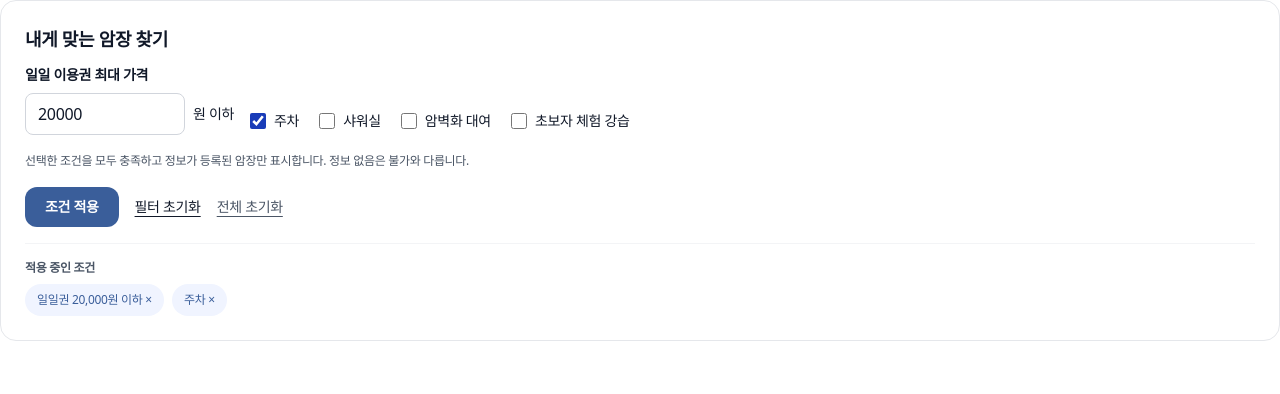
Scenario: keeps invalid budgets on screen with an error instead of silently applying
The image size is (1280, 394).
Replace the text in the field labelled "일일 이용권 최대 가격" with "-100" at (105, 114), box [25,93,185,135]
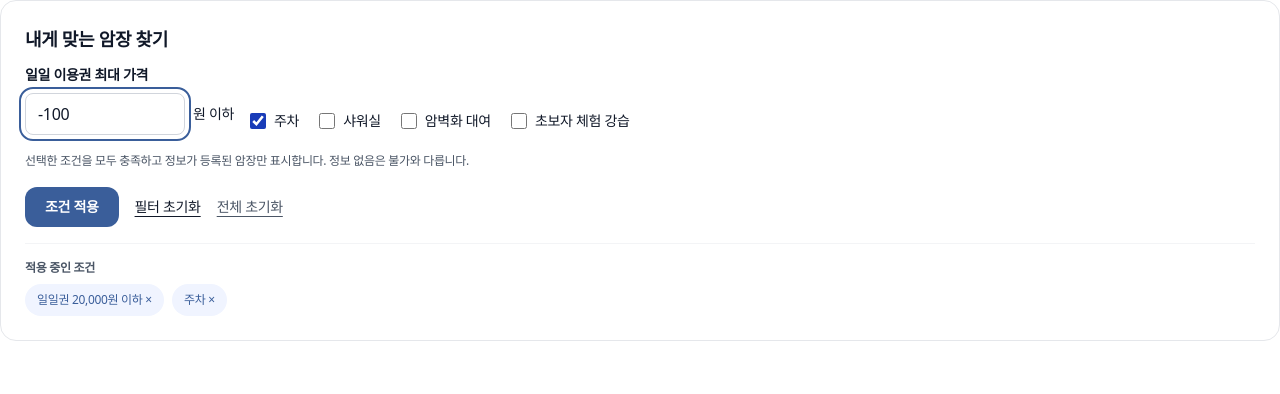
Click the button "조건 적용" at (72, 206), box [25,186,119,226]
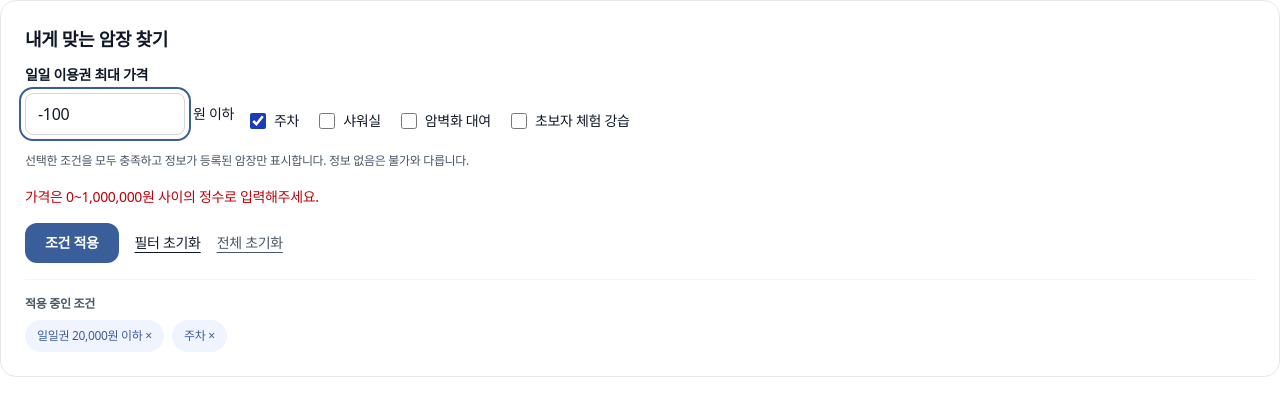
Expected: the message shows "정수", [25,186,319,206]
